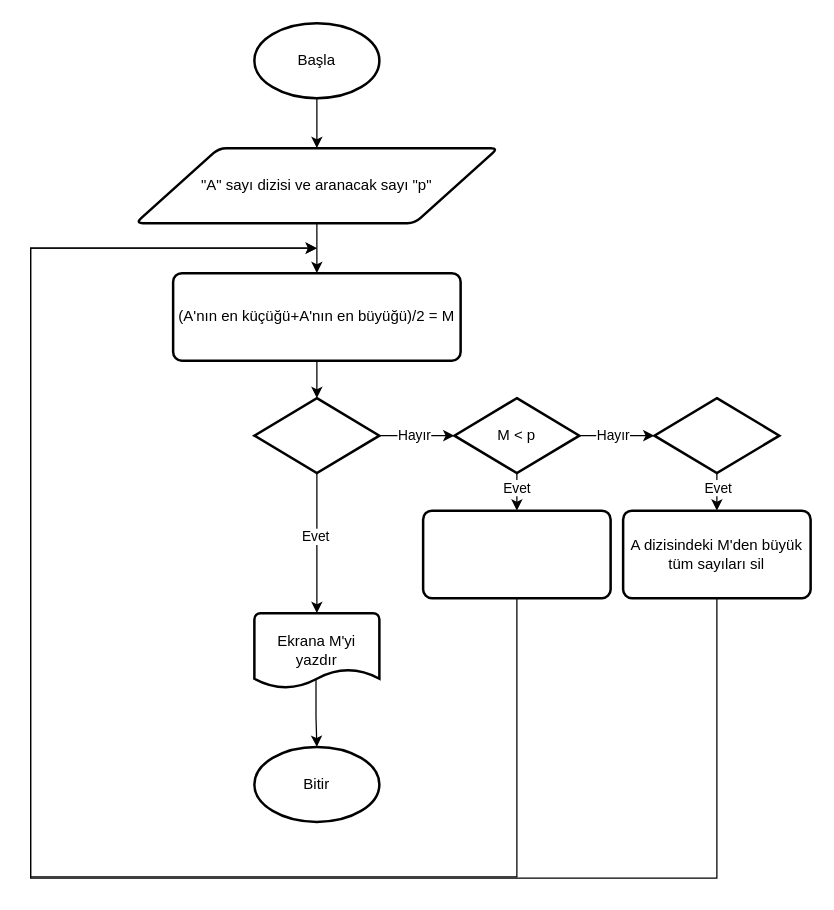
The diagram is 834 pixels wide and 910 high, and some of its shapes have lost their labels. Here are the shapes that lost their labels. From the top down, the box of each, then its label:
(252, 396, 380, 474): M = p
(652, 396, 780, 474): M > p
(421, 509, 611, 599): A dizisindeki M ve M'den küçük tüm sayıları sil
